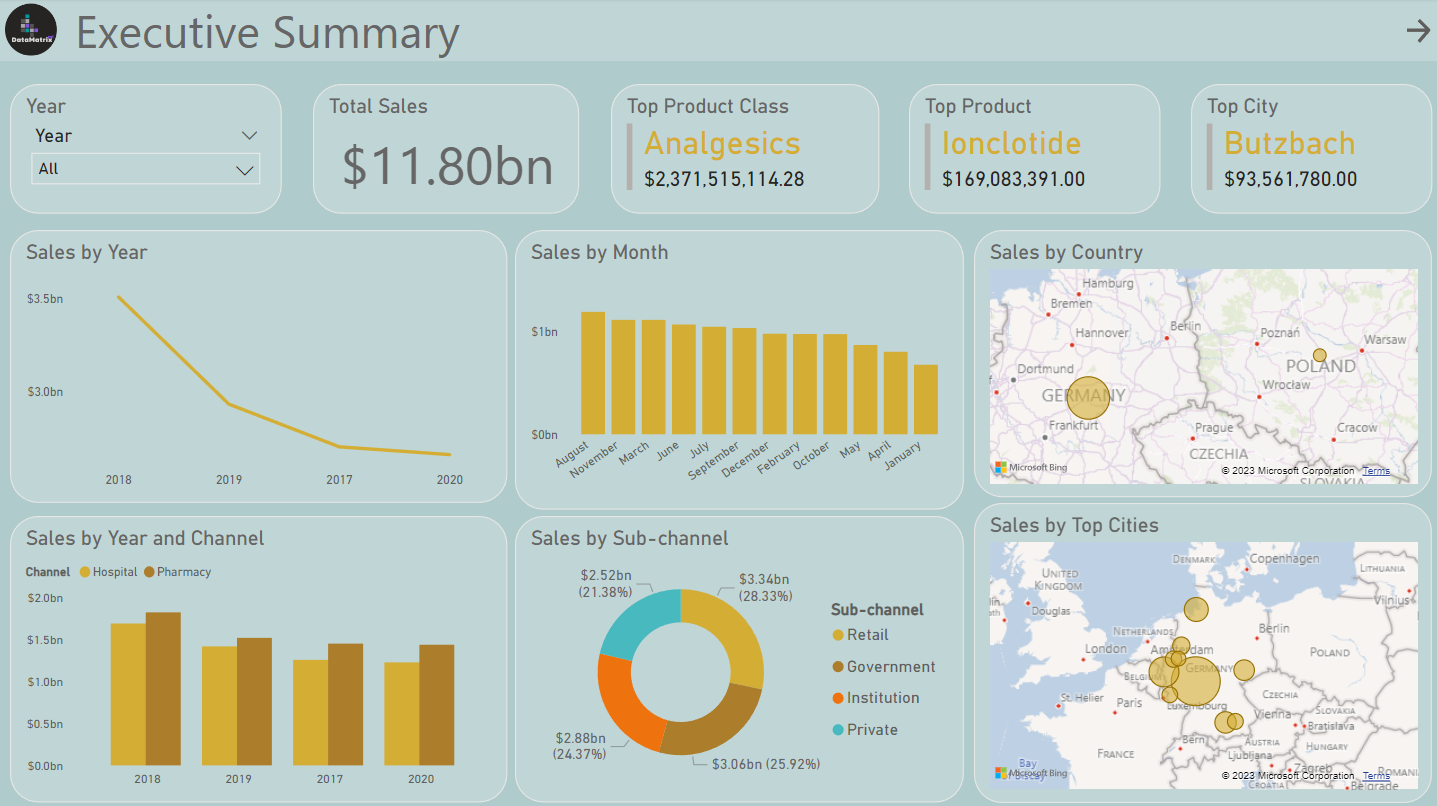

This screenshot's page, from the dashboard's own definition file:
{"tool":"powerbi","page":{"name":"Executive Summary","canvas":[1280,720],"ordinal":1},"visuals":[{"type":"slicer","title":"Year","fields":{"Values":["FACT-sales.Year"]},"box":[12.4,76.3,241.2,115.3],"z":0},{"type":"shape","box":[0,0,1280.4,55.9],"z":1000},{"type":"card","title":"Total Sales","fields":{"Values":["Sum(FACT-sales.Sales)"]},"box":[281.1,76.3,235.9,115.3],"z":3000},{"type":"lineChart","title":"Sales by Year","fields":{"Category":["FACT-sales.Year"],"Y":["Sum(FACT-sales.Sales)"]},"box":[12.4,205.7,440.7,242.1],"z":4000},{"type":"columnChart","title":"Sales by Month","fields":{"Y":["Sum(FACT-sales.Sales)"],"Category":["DIM-month.Month"]},"box":[460.2,205.7,398.1,248.3],"z":5000},{"type":"clusteredColumnChart","title":"Sales by Year and Channel","fields":{"Category":["FACT-sales.Year"],"Y":["Sum(FACT-sales.Sales)"],"Series":["DIM-channel.Channel"]},"box":[12.4,459.3,440.7,254.5],"z":6000},{"type":"donutChart","title":"Sales by Sub-channel","fields":{"Category":["DIM-subchannel.Sub-channel"],"Y":["Sum(FACT-sales.Sales)"]},"box":[460,459.3,398.1,254.5],"z":7000},{"type":"map","title":"Sales by Country","fields":{"Category":["DIM-country.Country"],"Size":["Sum(FACT-sales.Sales)"]},"box":[867.2,205.7,406.1,236.7],"z":8000},{"type":"map","title":"Sales by Top Cities","fields":{"Size":["Sum(FACT-sales.Sales)"],"Category":["DIM-city.City"],"Y":["Avg(DIM-city.Latitude)"],"X":["Avg(DIM-city.Longitude)"]},"box":[867.2,447.8,406.1,266],"z":9000},{"type":"actionButton","box":[1245.8,14.2,30.1,30.1],"z":10000},{"type":"multiRowCard","title":"Top Product Class","fields":{"Values":["DIM-product.Product Class","Sum(FACT-sales.Sales)"]},"box":[545.3,76.3,237.6,115.3],"z":11000},{"type":"multiRowCard","title":"Top Product","fields":{"Values":["DIM-product.Product Name","Sum(FACT-sales.Sales)"]},"box":[809.6,76.3,222.6,115.3],"z":12000},{"type":"multiRowCard","title":"Top City","fields":{"Values":["DIM-city.City","Sum(FACT-sales.Sales)"]},"box":[1059.6,76.3,213.7,115.3],"z":13000},{"type":"image","box":[0,0,61.2,55.9],"z":13001}]}

Visuals, with their boxes in screenshot pixels (x1, y1, x2, y2), scaled from the page's 1280x720 canvas onto the 1437x806 screenshot:
"Year" slicer: [14,85,285,214]
shape: [0,0,1436,63]
"Total Sales" card: [316,85,580,214]
"Sales by Year" lineChart: [14,230,509,501]
"Sales by Month" columnChart: [517,230,964,508]
"Sales by Year and Channel" clusteredColumnChart: [14,514,509,799]
"Sales by Sub-channel" donutChart: [516,514,963,799]
"Sales by Country" map: [974,230,1429,495]
"Sales by Top Cities" map: [974,501,1429,799]
actionButton: [1399,16,1432,50]
"Top Product Class" multiRowCard: [612,85,879,214]
"Top Product" multiRowCard: [909,85,1159,214]
"Top City" multiRowCard: [1190,85,1429,214]
image: [0,0,69,63]
